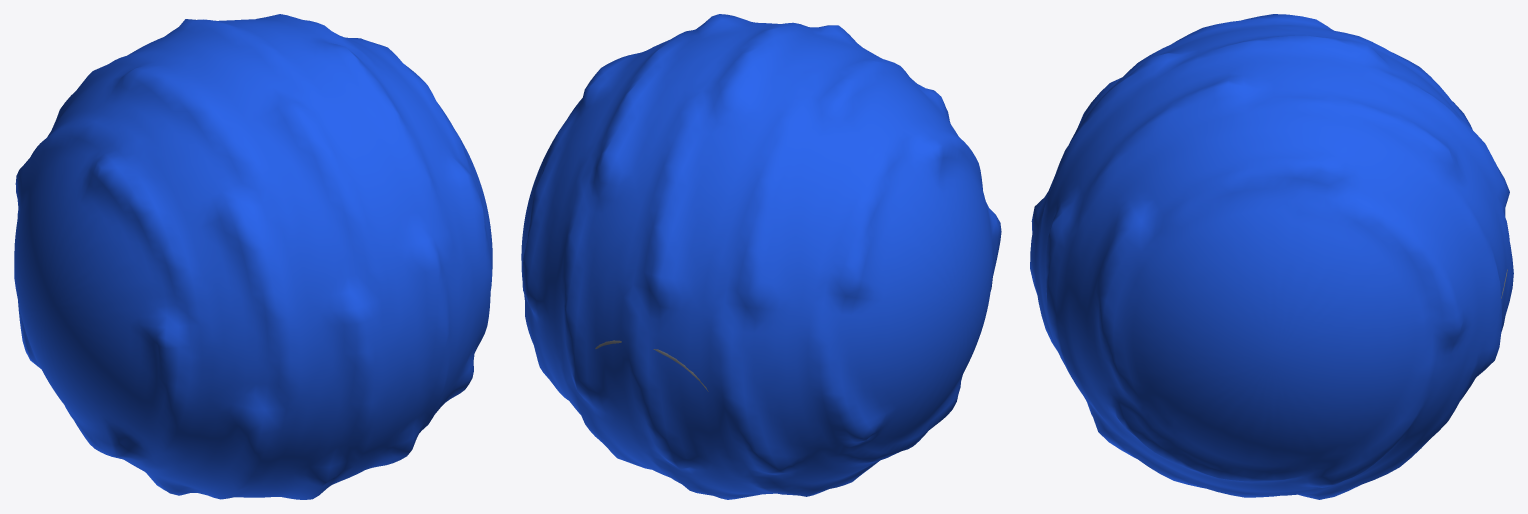
The model's file is EventKit.fbx.
The picture shows the model from 3 angles, left to right: view 1: azimuth 30°, elevation 25°; view 2: azimuth 150°, elevation 25°; view 3: azimuth 270°, elevation 25°; orthographic projection. The views are drawn at different scales.
Parts seen in each view (by area): view 1: EV_SpinBall; view 2: EV_SpinBall; view 3: EV_SpinBall.
Part boxes in pixels (<box>): EV_SpinBall: <box>14,14,492,499</box>; EV_SpinBall: <box>521,14,1001,499</box>; EV_SpinBall: <box>1030,14,1513,499</box>.
Size of the model in its own units: 6.1 by 6.33 by 6.29.
